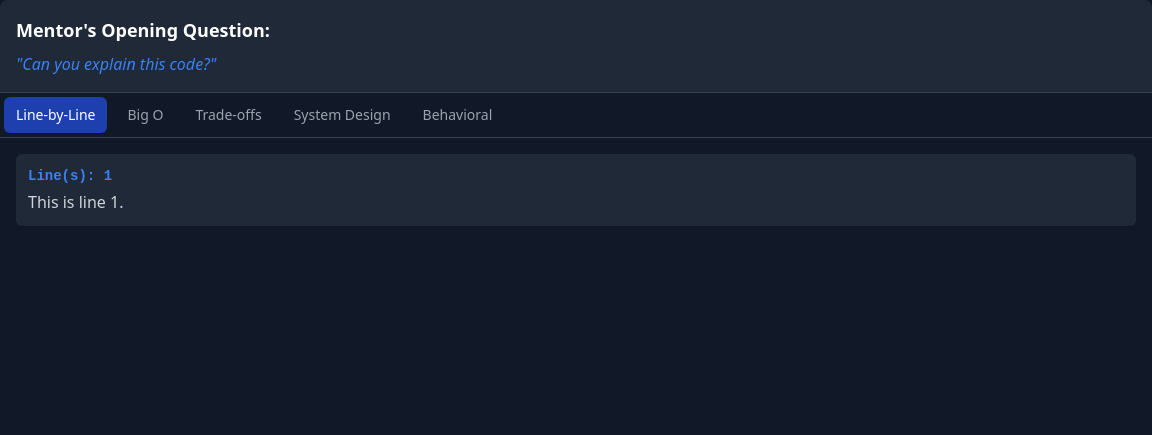
Test: ExplanationOutput › handles complexity strings without justification
Click the button "Big O" at x=145, y=115, box [116,97,175,133]
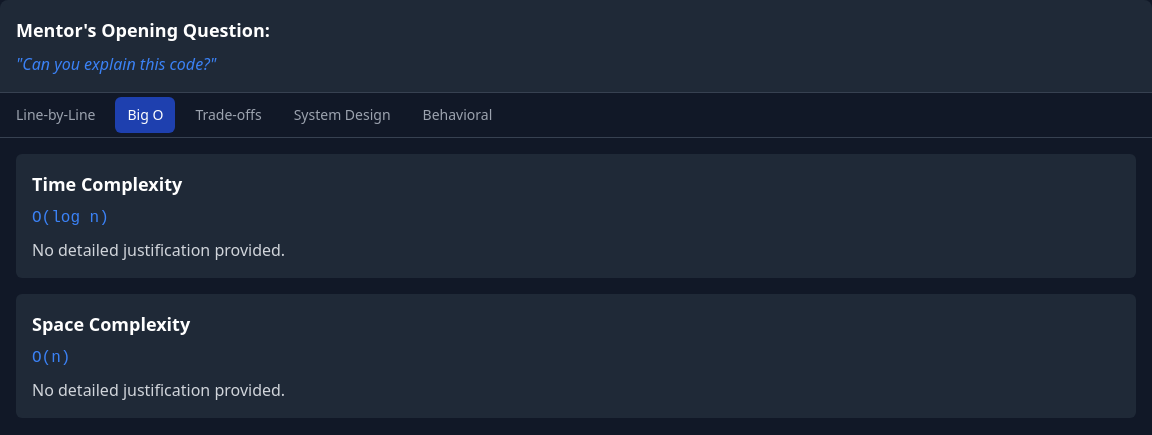
Expected: the text "O(log n)" is shown, [32,209,109,227]
Expected: the text "O(n)" is shown, [32,349,70,367]
Expected: the text "No detailed justification provided." is shown 2 times, [32,239,285,261]; [32,379,285,401]
